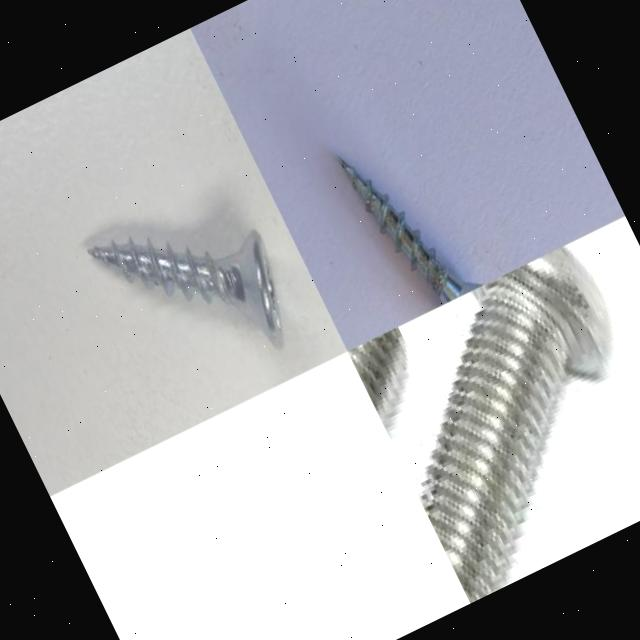Screw: (420, 244, 620, 603), (88, 228, 283, 347), (337, 156, 483, 304)
